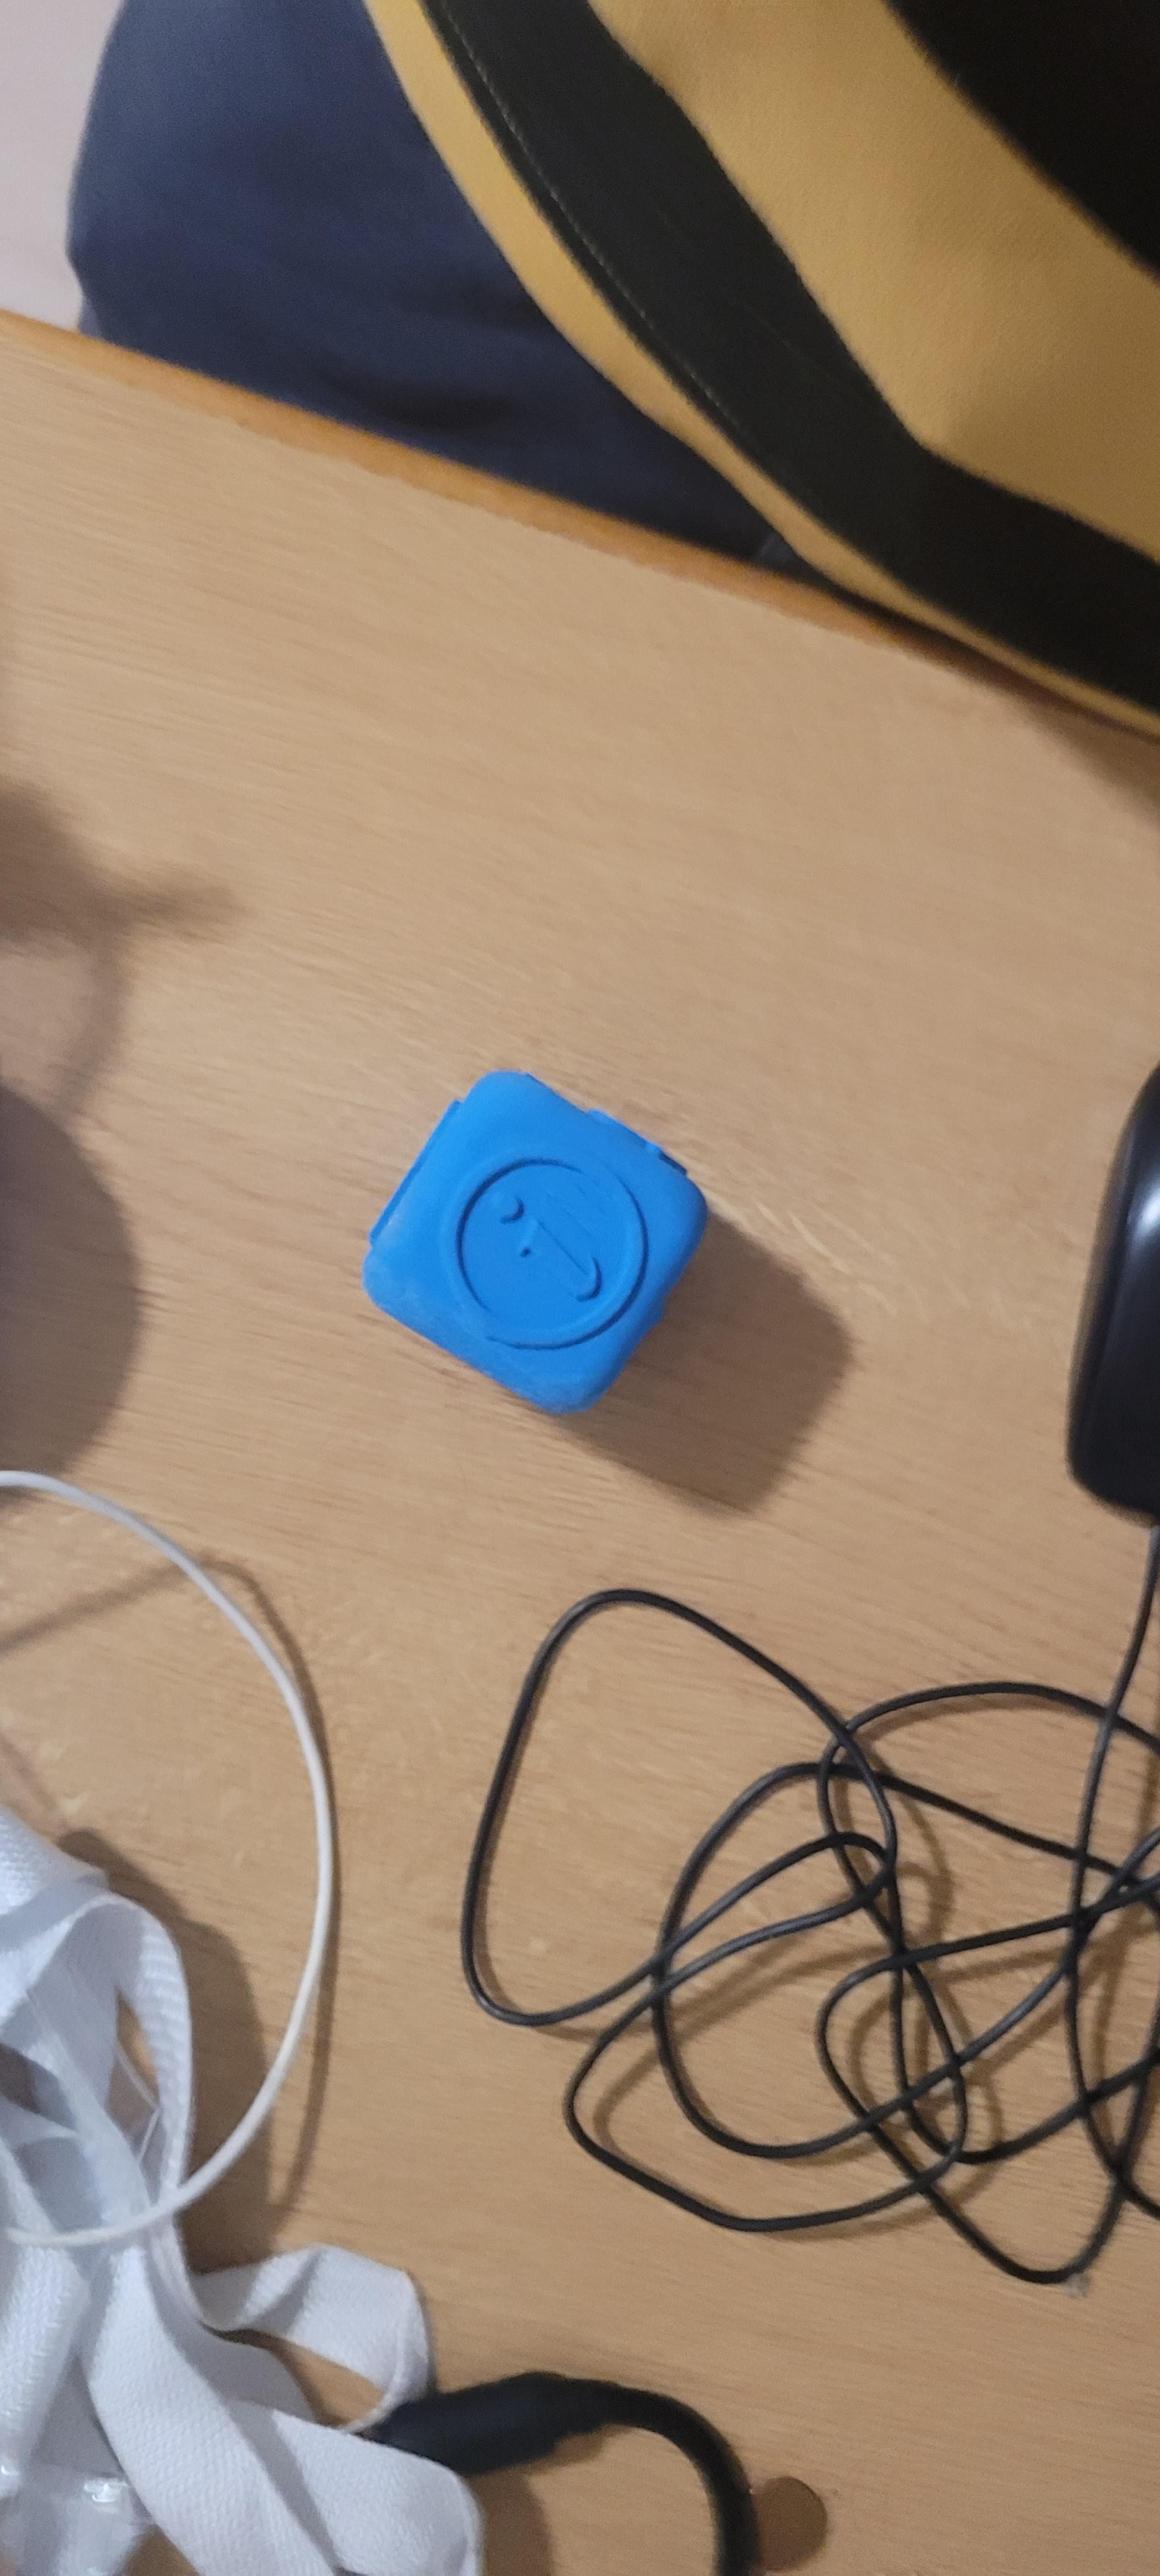Info: (437, 1089, 672, 1380)
